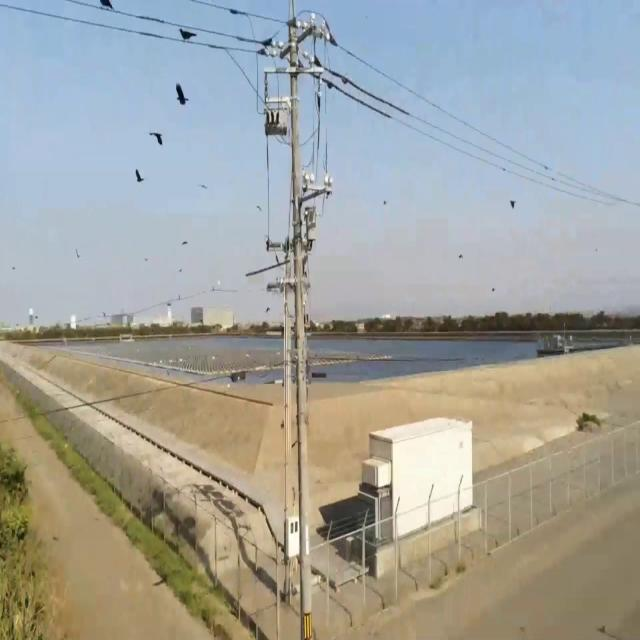bird: (175, 76, 187, 114), (179, 21, 193, 47), (151, 123, 163, 152), (135, 162, 143, 188), (509, 193, 516, 212), (275, 108, 279, 123)
